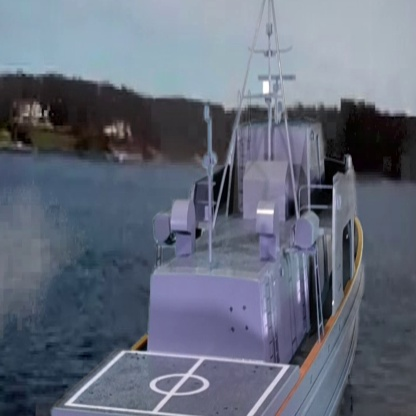YP689: (41, 0, 375, 416)
